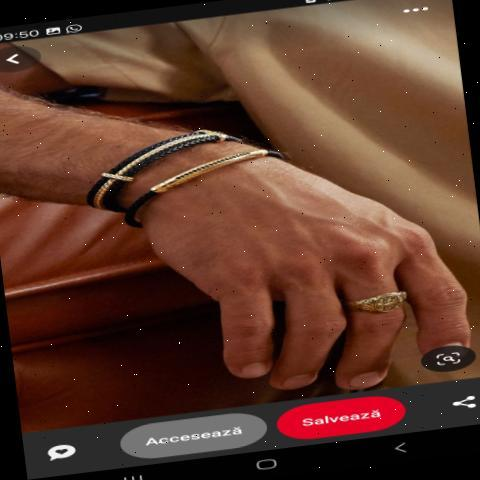Hands: (123, 135, 478, 384)
